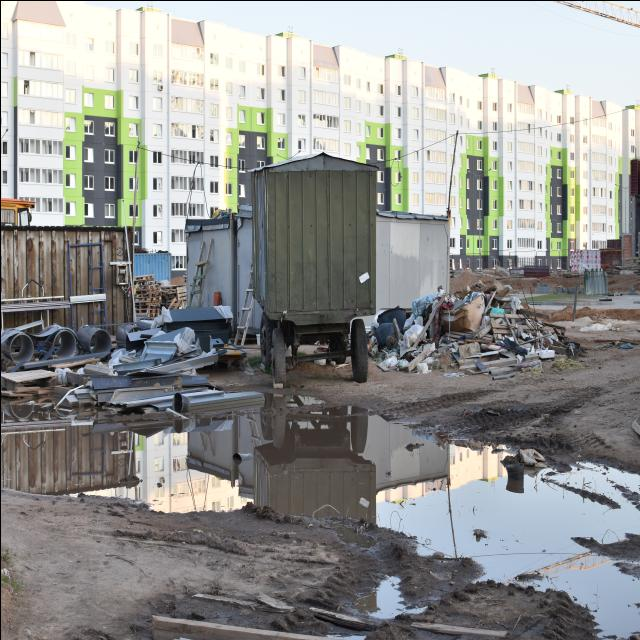entulho: (451, 318, 544, 384), (64, 364, 192, 408), (406, 286, 488, 354), (143, 304, 227, 366), (0, 322, 103, 369), (491, 296, 561, 342), (0, 362, 56, 408), (375, 336, 435, 378), (200, 305, 233, 365), (106, 319, 148, 364), (376, 305, 410, 356), (234, 263, 254, 343), (192, 238, 210, 308), (132, 271, 158, 316), (158, 280, 186, 306), (0, 318, 43, 334), (582, 266, 604, 296), (534, 282, 550, 294)
